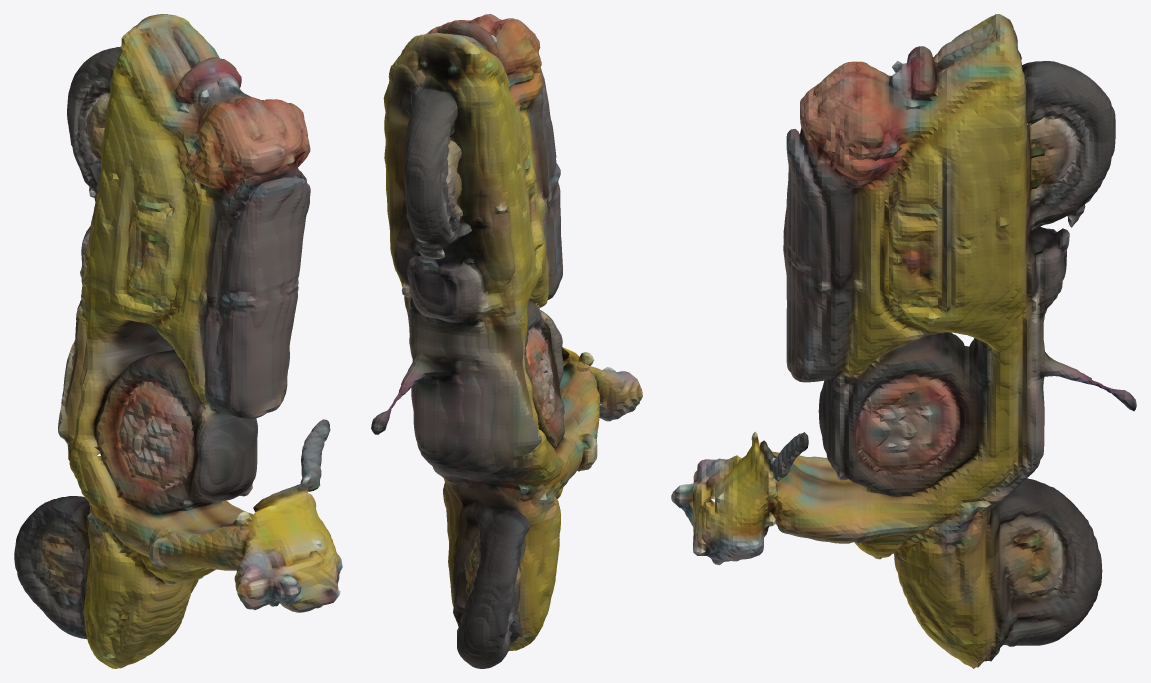
Rendered from 000000_vespa_scooter_bicycle.glb.
3 renders of one model, left to right at view 1: azimuth 30°, elevation 25°; view 2: azimuth 150°, elevation 25°; view 3: azimuth 270°, elevation 25°, orthographic. The views are drawn at different scales.
Visible parts, largest first — view 1: world; view 2: world; view 3: world.
Boxes of the visible parts, x1=… form: world: x1=14, y1=14, x2=342, y2=668; world: x1=371, y1=14, x2=642, y2=668; world: x1=671, y1=14, x2=1136, y2=668.
Size of the model in its own units: 0.3533 by 1.12 by 0.7128.
